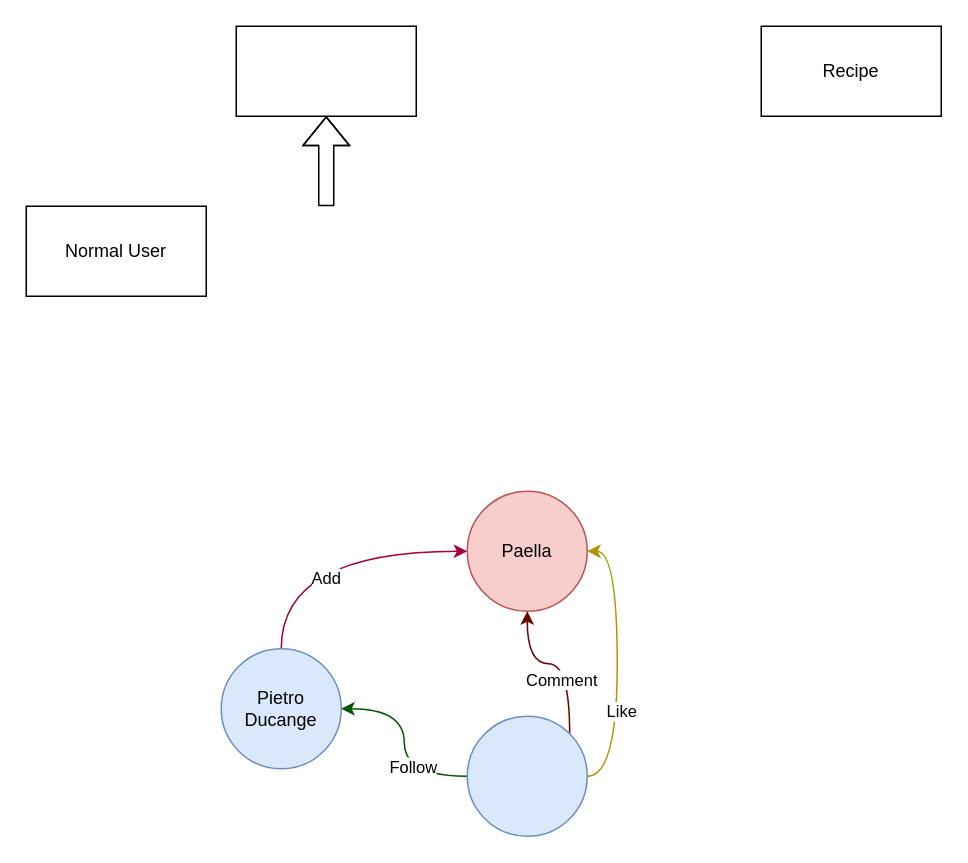
Some shapes in this 968 by 863 pixel diagram are drawn without their labels. Each missing label, with the centre of its shape:
Gionatan Gallo: (526,775)
User: (325,70)
